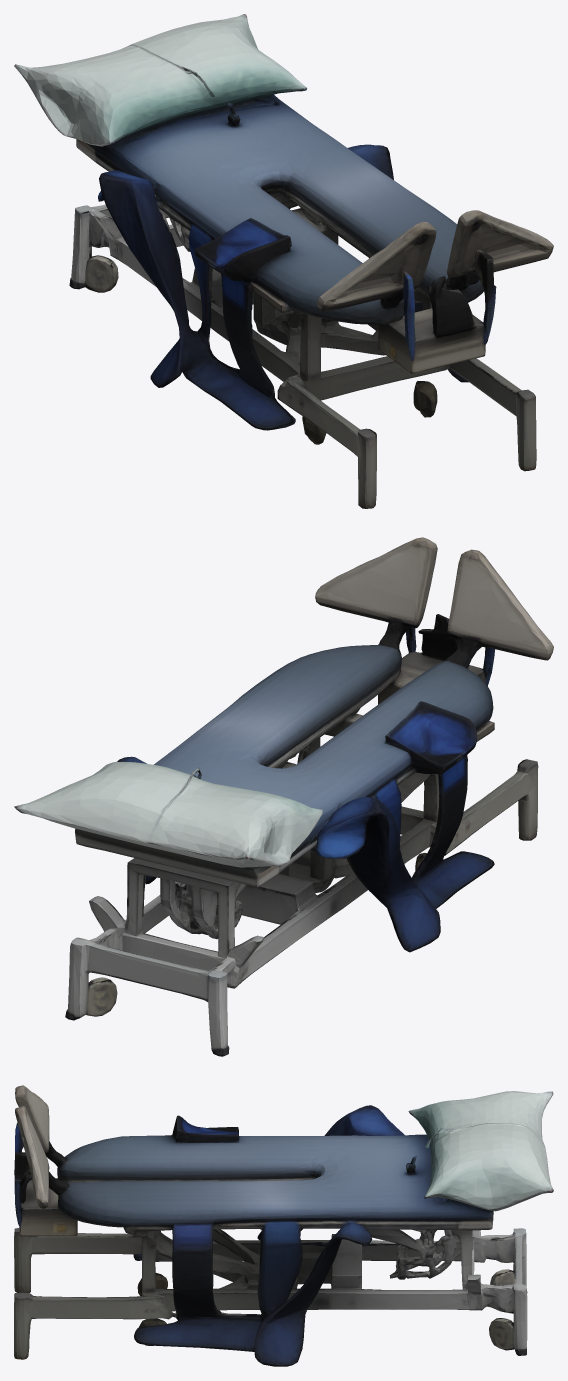
3 renders of one model, top to bottom at view 1: azimuth 30°, elevation 25°; view 2: azimuth 150°, elevation 25°; view 3: azimuth 270°, elevation 25°, orthographic. The views are drawn at different scales.
Parts seen in each view (by area): view 1: world; view 2: world; view 3: world.
Part boxes in pixels (box(x1,y1,x2,y2)): world: box(14, 14, 553, 508); world: box(14, 537, 553, 1056); world: box(14, 1085, 553, 1366).
Bounding box in the file's own units: 0.5218 × 0.4649 × 1.
1 material, 1 textured.
